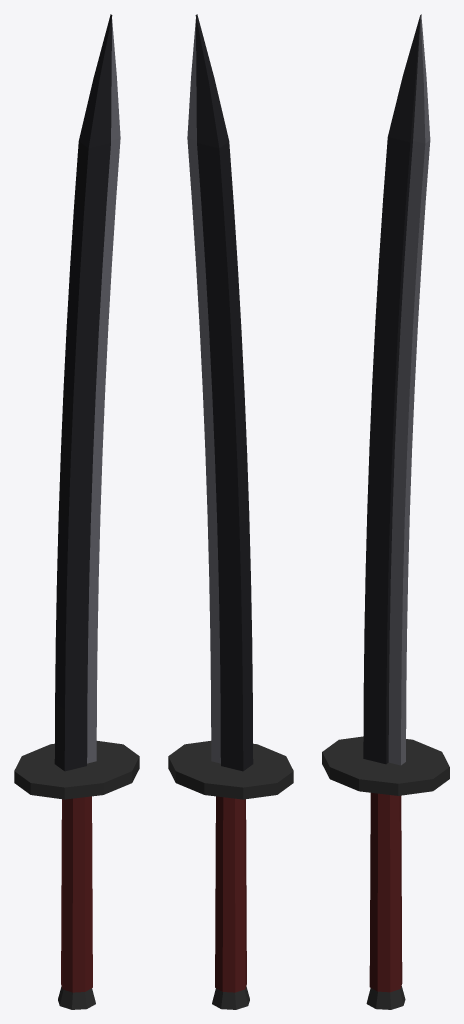
The model's file is Sword_Shusui.fbx.
The picture shows the model from 3 angles, left to right: view 1: azimuth 30°, elevation 25°; view 2: azimuth 150°, elevation 25°; view 3: azimuth 330°, elevation 25°; orthographic projection.
Parts seen in each view (by area): view 1: Sword_Shusui; view 2: Sword_Shusui; view 3: Sword_Shusui.
Part boxes in pixels (x1,y1,x2,y2): Sword_Shusui: (14,14,139,1009); Sword_Shusui: (168,14,293,1009); Sword_Shusui: (322,14,449,1009).
Bounding box in the file's own units: 0.5706 × 4.89 × 0.48.
1 material, 1 textured.
